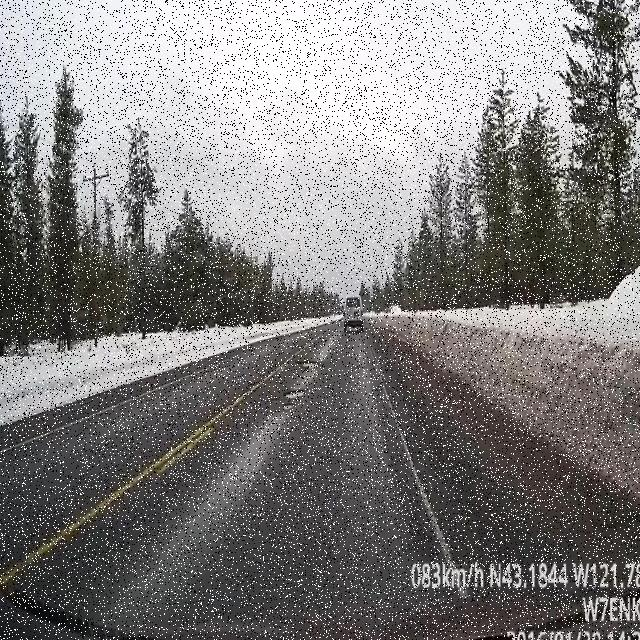pothole: (295, 359, 320, 370), (283, 390, 306, 400), (282, 402, 297, 411)
